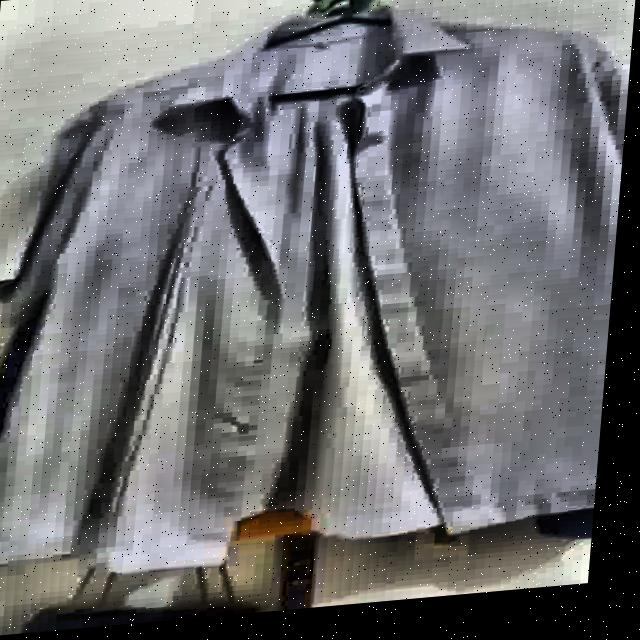clothes: (0, 0, 635, 605)
